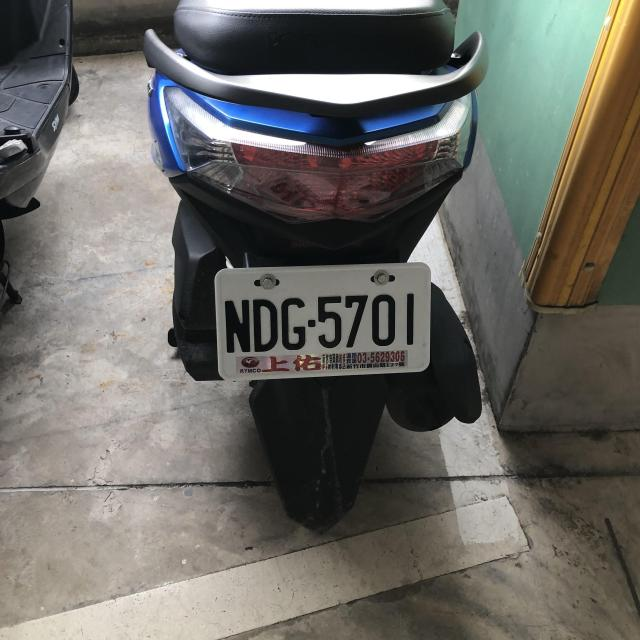W: (215, 262, 430, 380)
